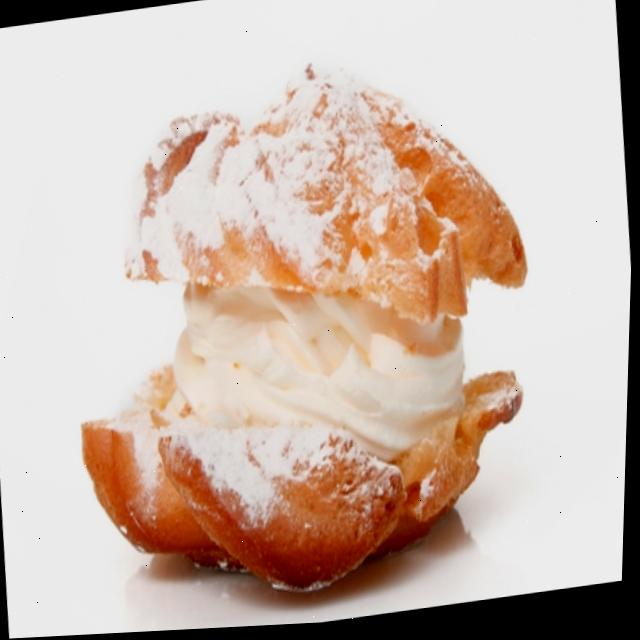炸货点心: (14, 34, 592, 639)
蛋糕甜品: (14, 34, 592, 639)
